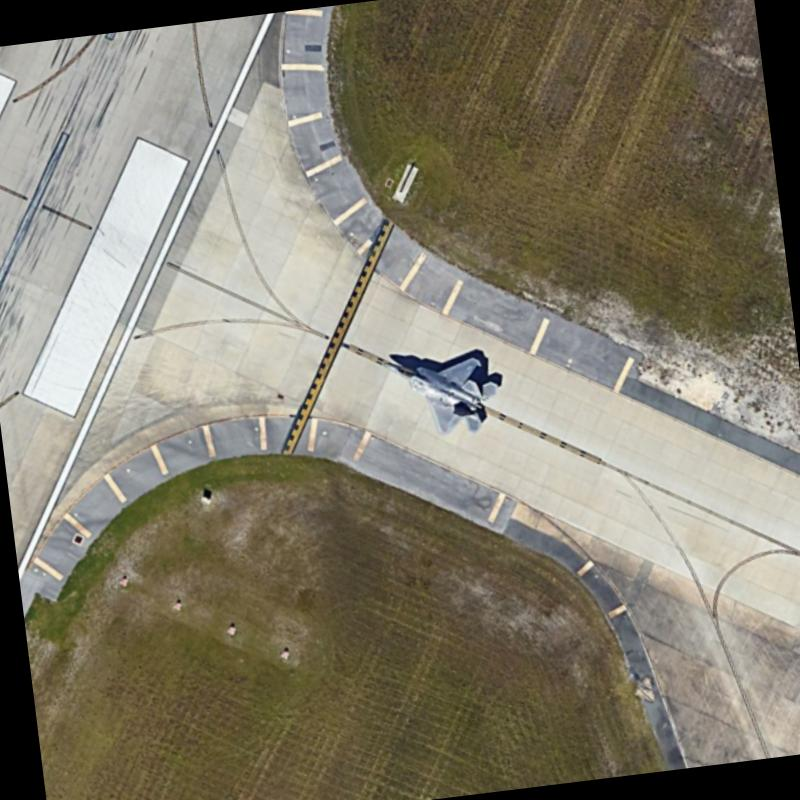A15: (379, 336, 515, 444)
